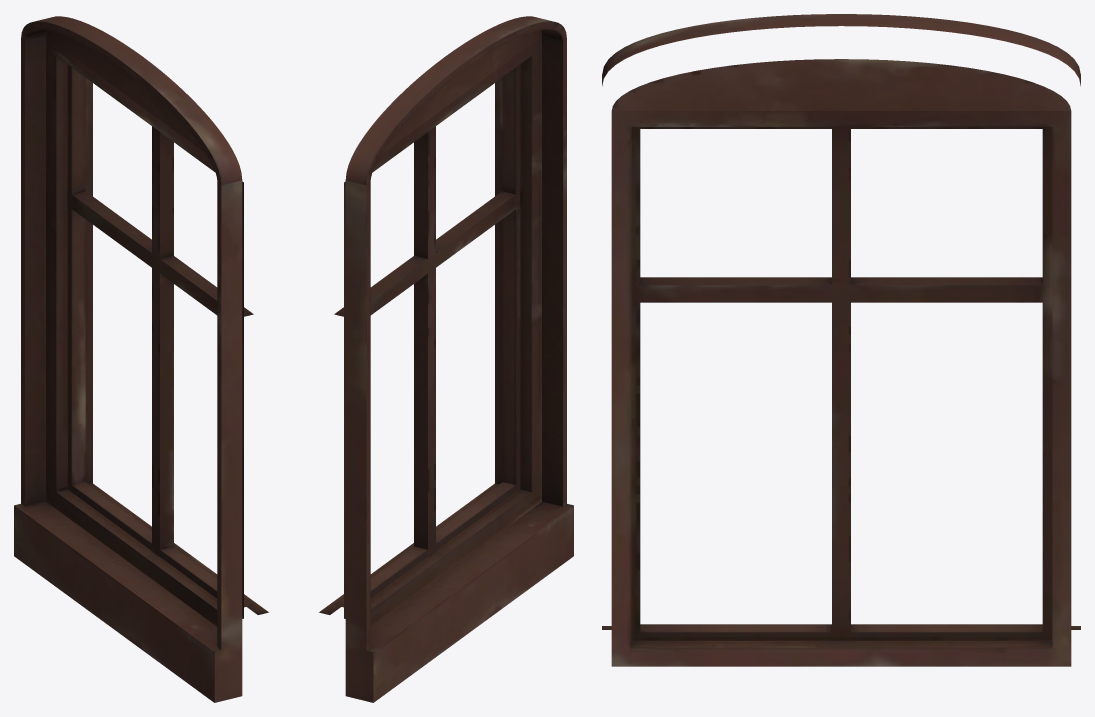
The picture shows the model from 3 angles, left to right: view 1: azimuth 30°, elevation 25°; view 2: azimuth 150°, elevation 25°; view 3: azimuth 270°, elevation 25°; orthographic projection. The views are drawn at different scales.
Parts seen in each view (by area): view 1: body0_model0_lod0_mesh0; view 2: body0_model0_lod0_mesh0; view 3: body0_model0_lod0_mesh0.
Boxes of the visible parts, left/top/right/bottom form: body0_model0_lod0_mesh0: left=14, top=16, right=268, bottom=702; body0_model0_lod0_mesh0: left=319, top=16, right=573, bottom=702; body0_model0_lod0_mesh0: left=602, top=14, right=1080, bottom=666.
Size of the model in its own units: 20 by 156 by 100.
1 material, 1 textured.
